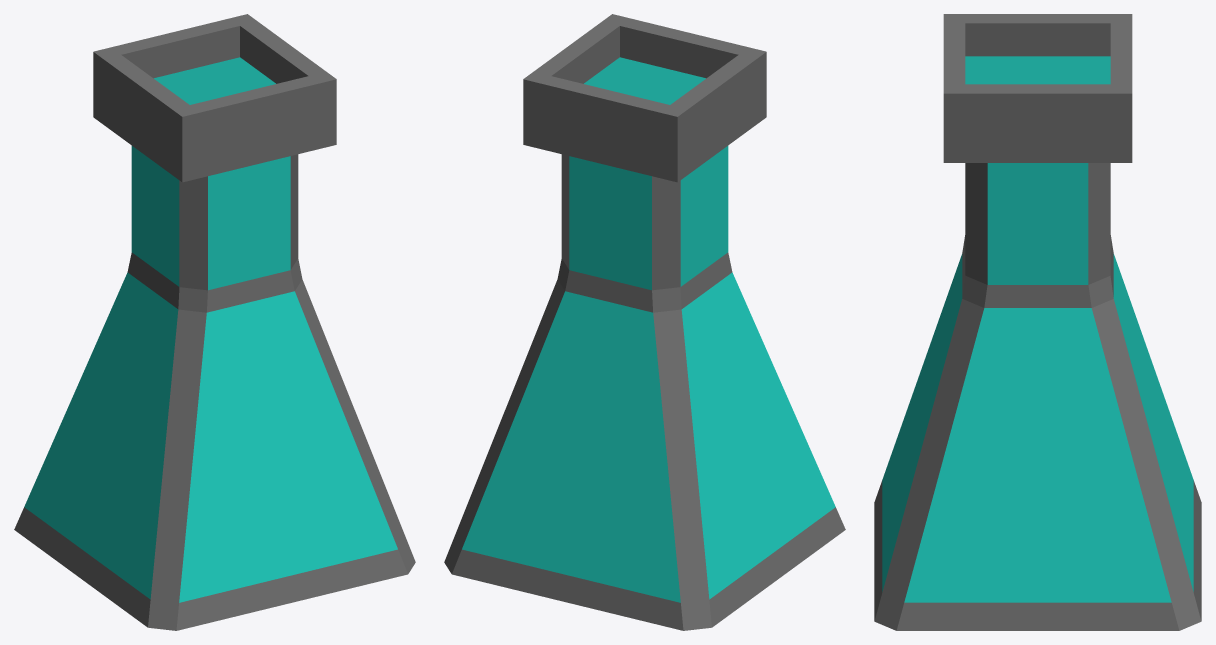
File: potion_type_01.fbx
3 renders of one model, left to right at view 1: azimuth 30°, elevation 25°; view 2: azimuth 150°, elevation 25°; view 3: azimuth 270°, elevation 25°, orthographic. The views are drawn at different scales.
Visible parts, largest first — view 1: potion_type_01; view 2: potion_type_01; view 3: potion_type_01.
Boxes of the visible parts, x1,y1,x2,y2 form: potion_type_01: [14, 14, 415, 630]; potion_type_01: [444, 14, 845, 630]; potion_type_01: [874, 14, 1201, 630].
Size of the model in its own units: 8.82 by 15.12 by 8.82.
